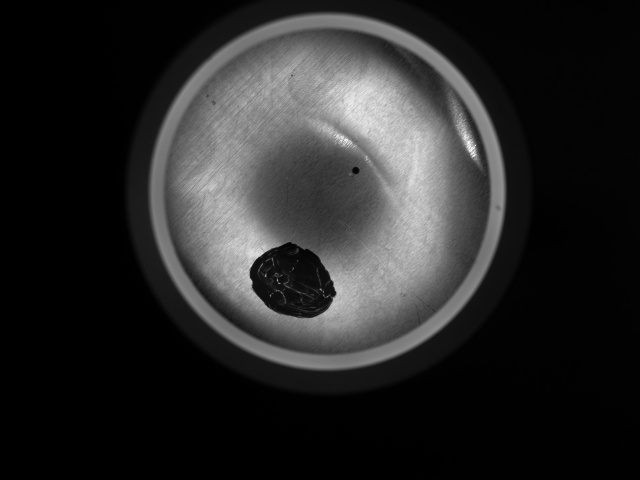zang_wu: (247, 241, 341, 323)
zhen_kong: (351, 165, 361, 176)
